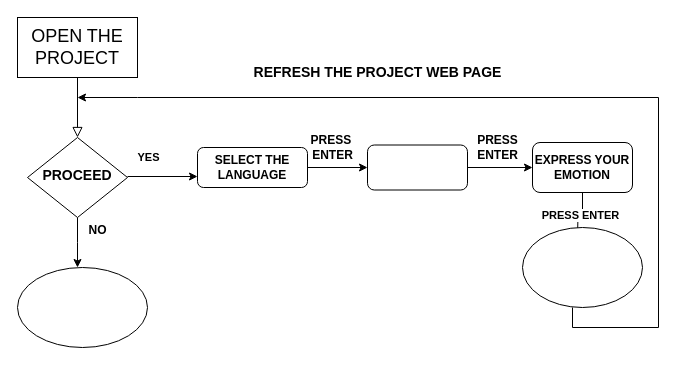
Some shapes in this 684 by 365 pixel diagram are drawn without their labels. Each missing label, with the centre of its shape:
CLOSE THE PROJECT: the point at 82,307
OUTPUT APPEARS: the point at 582,267
SELECT THE SINGER: the point at 417,167
